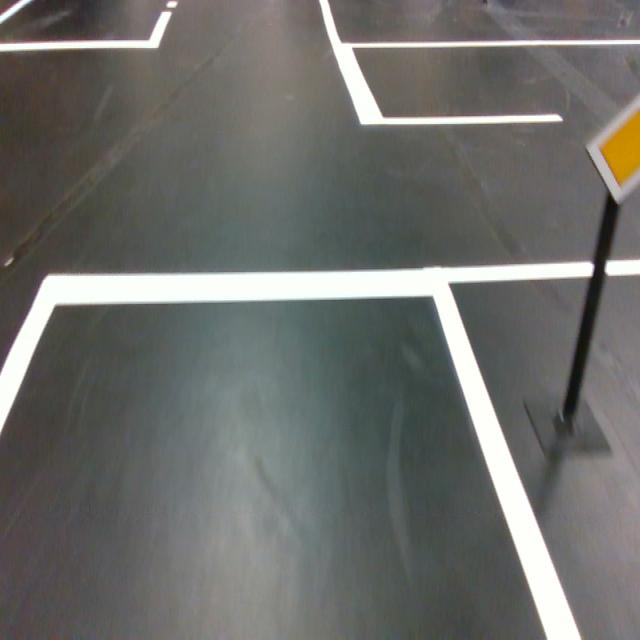priority-sign: (583, 90, 640, 206)
